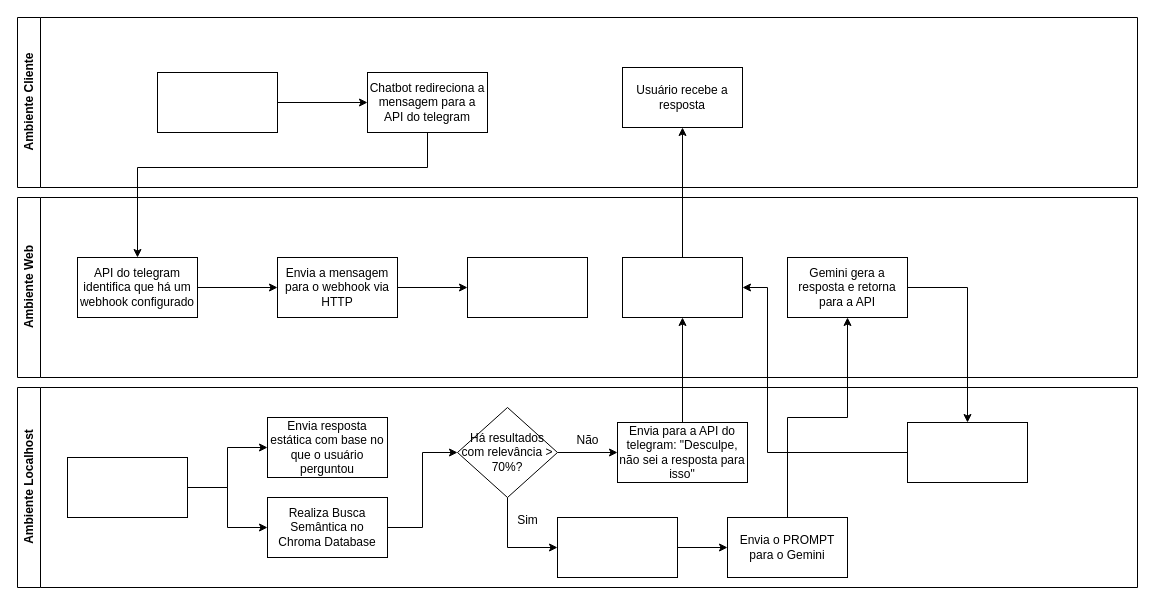
The diagram is 1155 pixels wide and 605 high, and some of its shapes have lost their labels. The shapes that lost their labels are listed below. From the top down, each one's centre as x and y in pixels, then its label:
point 217,102: Usuário envia a mensagem para o chatbot no telegram
point 527,287: Webhook envia a mensagem para a API local
point 682,287: API do telegram envia a resposta para o Chat do Usuário
point 967,452: API local envia a resposta para a API do Telegram
point 127,487: API processa a mensagem
point 617,547: Gera o PROMPT com base nos resultados
